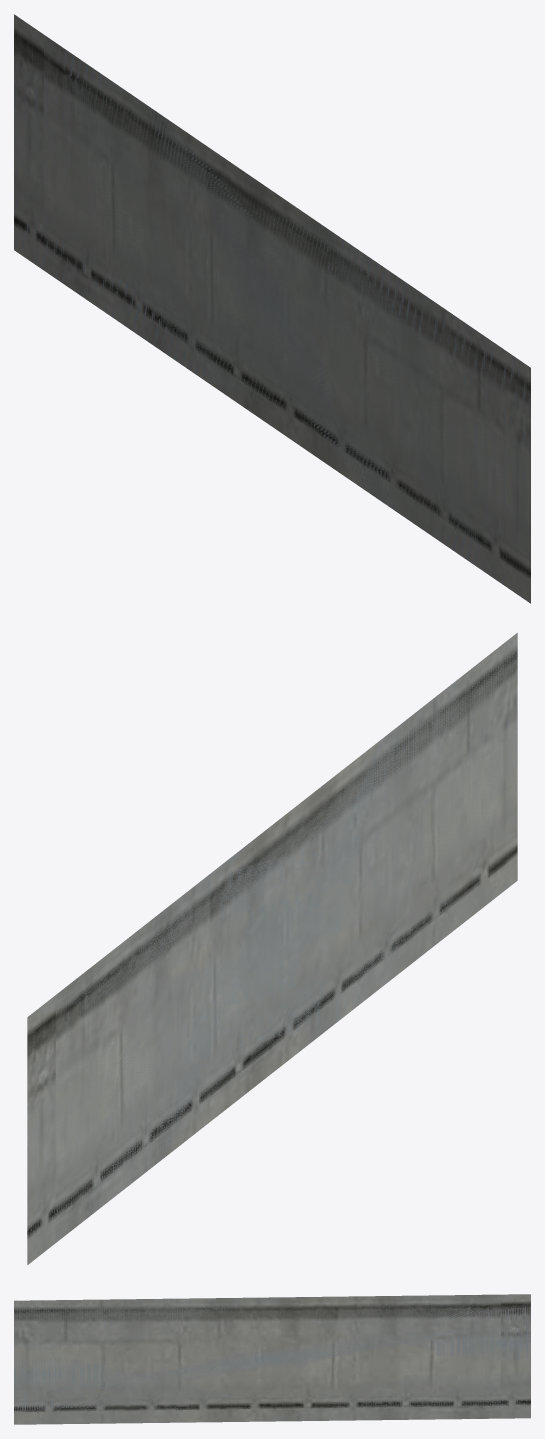
The model's file is 人民英雄纪念碑26.dae.
3 renders of one model, top to bottom at view 1: azimuth 30°, elevation 25°; view 2: azimuth 150°, elevation 25°; view 3: azimuth 270°, elevation 25°, orthographic. The views are drawn at different scales.
Visible parts, largest first — view 1: SketchUp; view 2: SketchUp; view 3: SketchUp.
Boxes of the visible parts, left/top/right/bottom form: SketchUp: left=14, top=14, right=530, bottom=603; SketchUp: left=27, top=633, right=517, bottom=1264; SketchUp: left=14, top=1294, right=530, bottom=1424.
Bounding box in the file's own units: 7.94 × 268 × 70.87.
